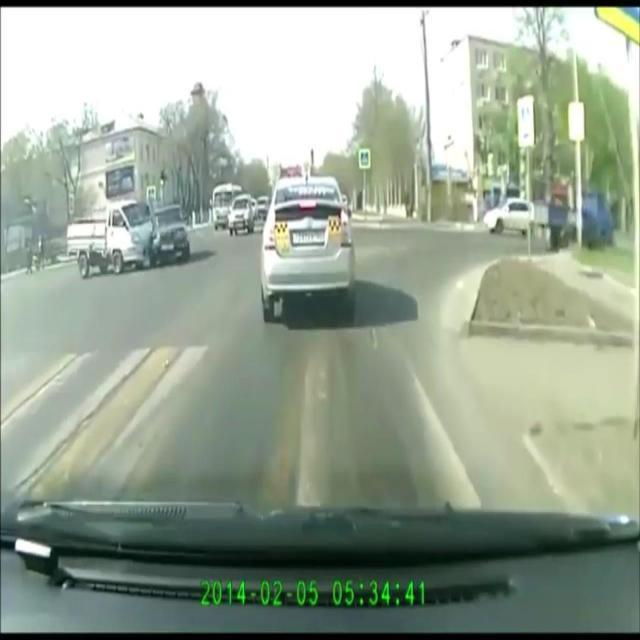multiple_accident: (47, 159, 187, 279)
